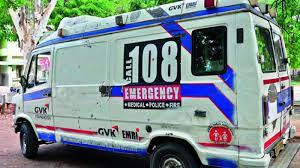ER: (13, 0, 300, 168)
